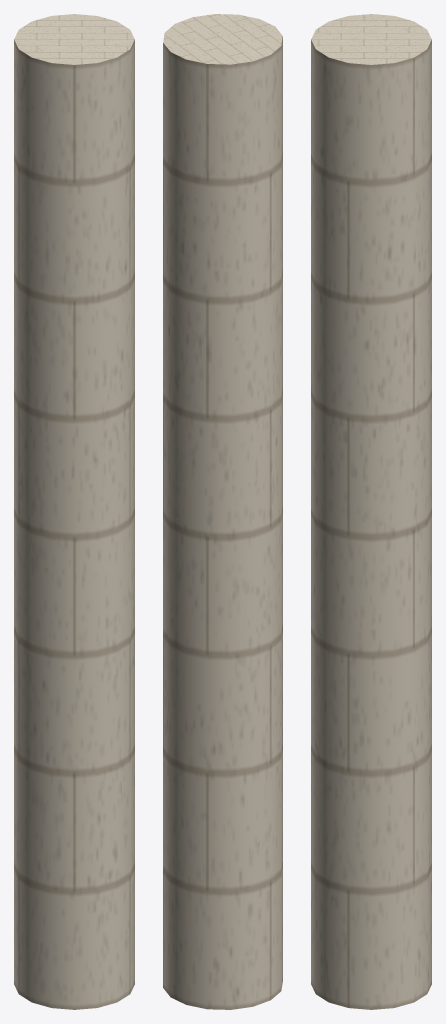
Rendered from stone-column.glb.
The picture shows the model from 3 angles, left to right: view 1: azimuth 90°, elevation 25°; view 2: azimuth 210°, elevation 25°; view 3: azimuth 270°, elevation 25°; orthographic projection.
Visible parts, largest first — view 1: WhiteSandstone; view 2: WhiteSandstone; view 3: WhiteSandstone.
Part boxes in pixels (x1=…): WhiteSandstone: x1=14, y1=14, x2=134, y2=1009; WhiteSandstone: x1=163, y1=14, x2=282, y2=1009; WhiteSandstone: x1=311, y1=14, x2=431, y2=1009.
Bounding box in the file's own units: 1.1 × 9.5 × 1.1.
Materials: 1 (1 with a texture image).
